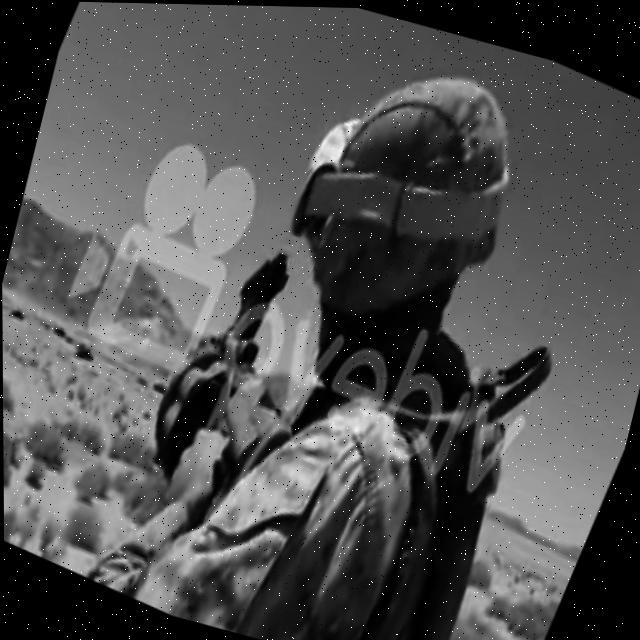rocket: (122, 236, 334, 533)
